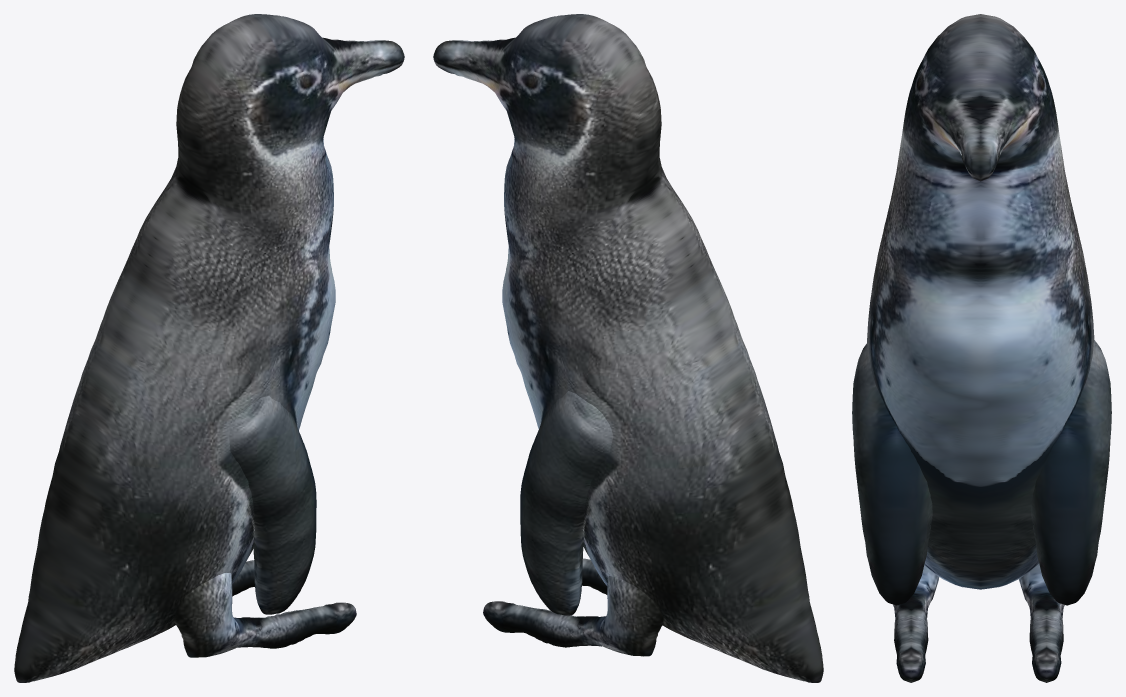
Rendered from galapagos-penguin.glb.
3 renders of one model, left to right at view 1: azimuth 30°, elevation 25°; view 2: azimuth 150°, elevation 25°; view 3: azimuth 270°, elevation 25°, orthographic. The views are drawn at different scales.
Visible parts, largest first — view 1: mm_frame (20); view 2: mm_frame (20); view 3: mm_frame (20).
Part boxes in pixels (x1,y1,x2,y2): mm_frame (20): (14, 14, 404, 682); mm_frame (20): (433, 14, 823, 682); mm_frame (20): (852, 14, 1111, 682).
Size of the model in its own units: 4.17 by 6.23 by 2.28.
Materials: 1 (1 with a texture image).
